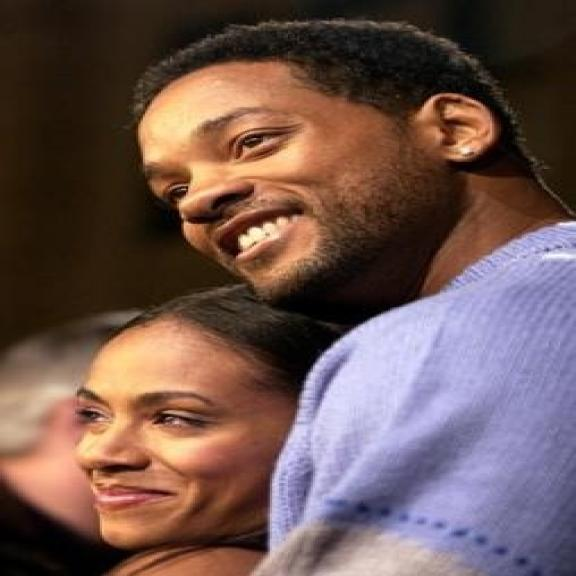face: (127, 35, 506, 306), (65, 304, 311, 557)
